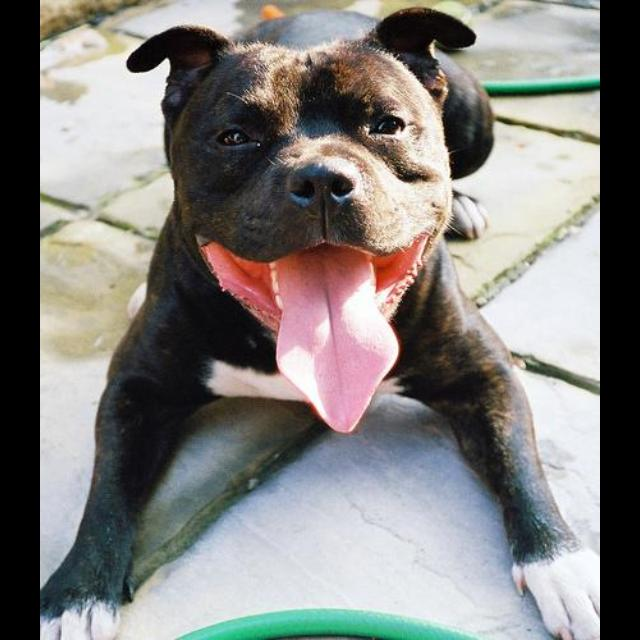amstaff: (42, 7, 601, 640)
